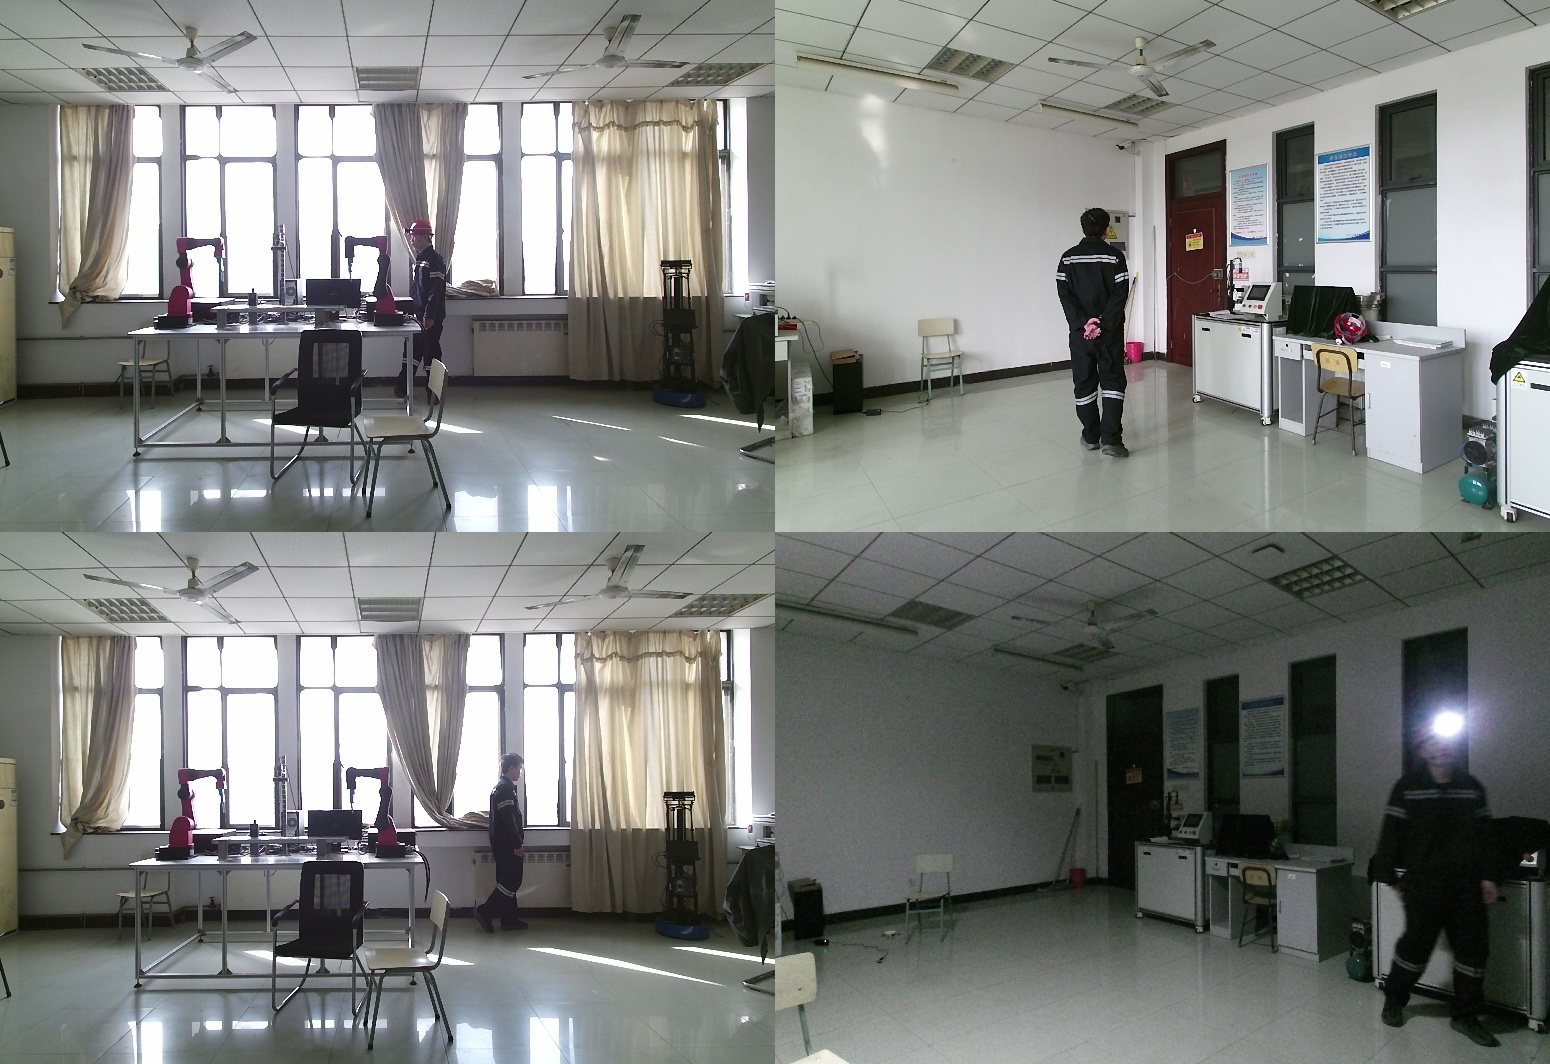person: (1390, 715, 1519, 1043), (1054, 209, 1141, 460), (464, 752, 529, 940), (398, 220, 453, 402)
